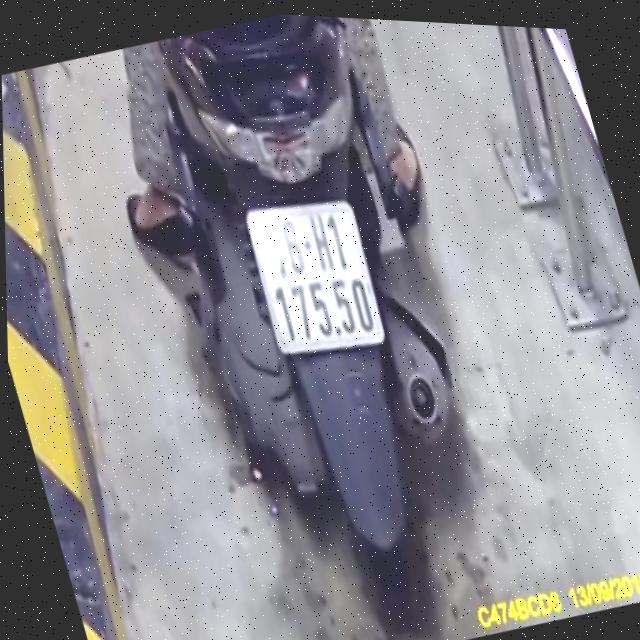motorcycle: (107, 6, 519, 640)
plate: (234, 179, 397, 371)
